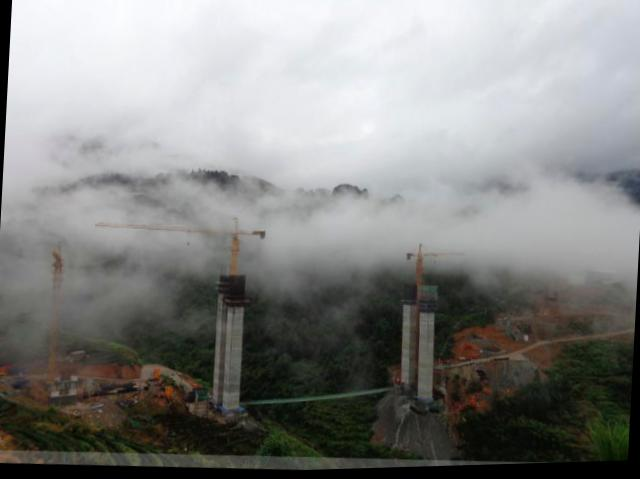smoke: (34, 180, 216, 289), (368, 173, 526, 260), (521, 171, 630, 272), (274, 190, 360, 268)
